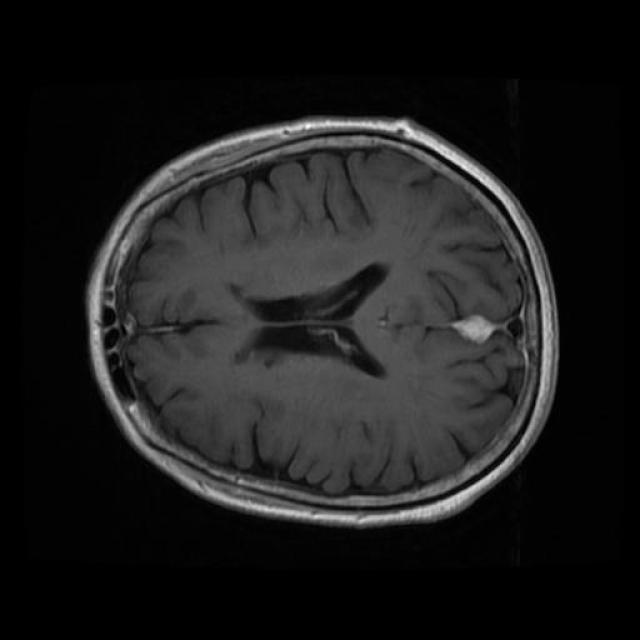Meningioma: (449, 315, 500, 343)
